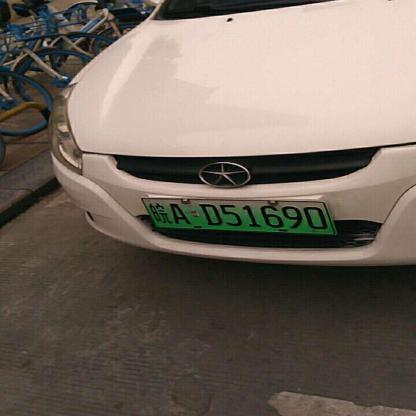lp: (142, 200, 333, 232)
